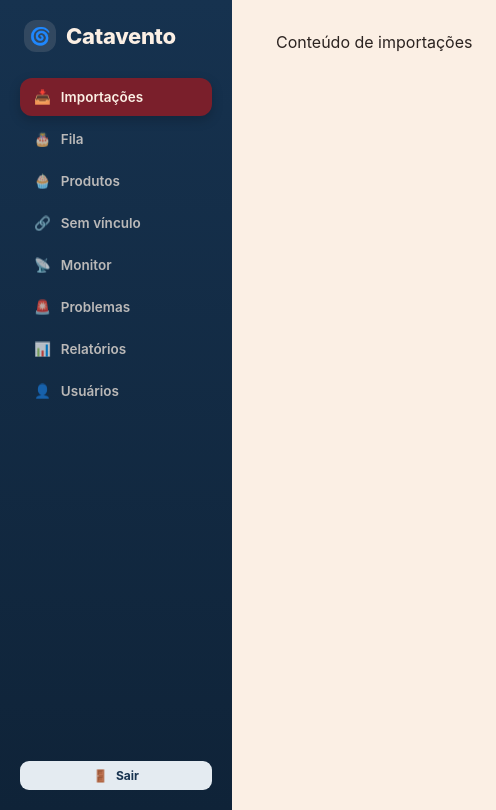
Test: AppShell › mostra os links de Produtos e Sem vínculo e navega para eles
The image size is (496, 810).
Check: the text "Sem vínculo" is shown, box [61, 215, 141, 231]
Click the text "Produtos" at (90, 181), box [61, 173, 120, 189]
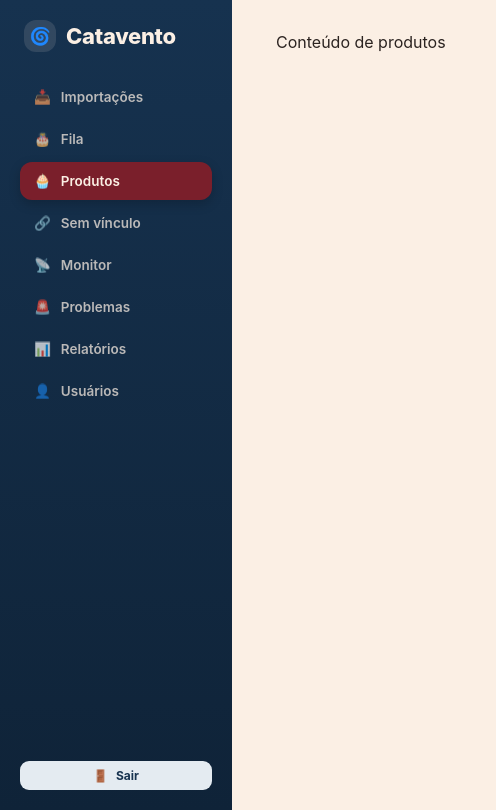
Check: the text "Conteúdo de produtos" is shown, box [276, 32, 446, 52]
Click the text "Sem vínculo" at (101, 223), box [61, 215, 141, 231]
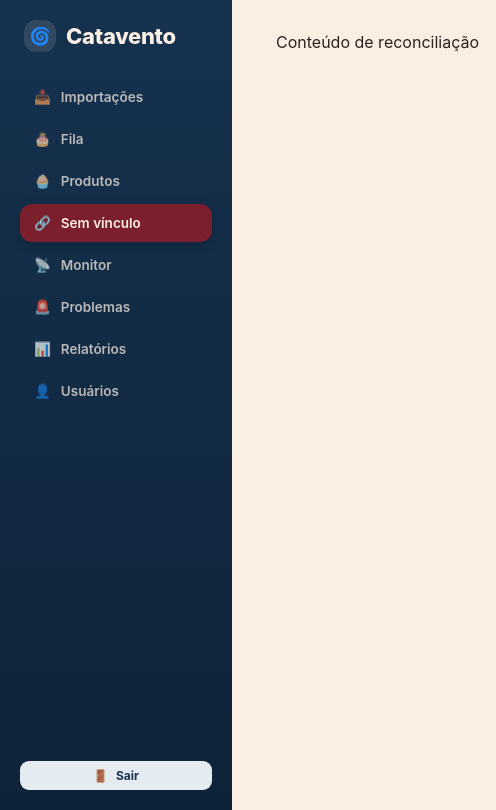
Check: the text "Conteúdo de reconciliação" is shown, box [276, 32, 479, 52]
